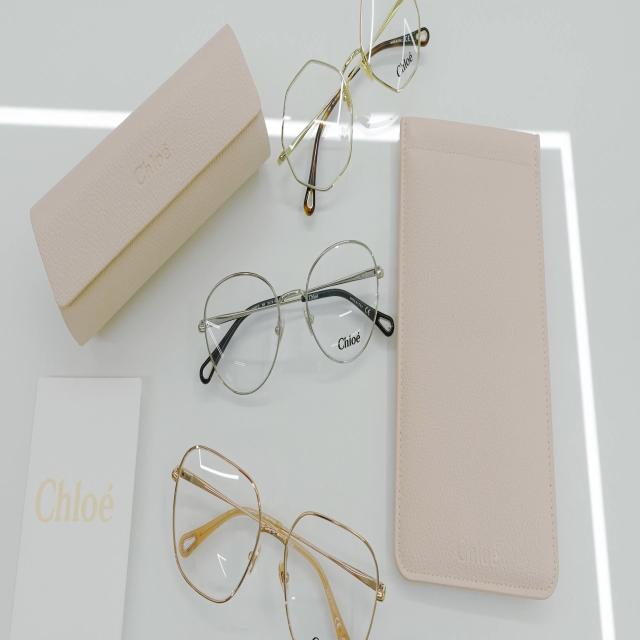glasses: (172, 441, 380, 640), (203, 235, 380, 398), (281, 0, 421, 194)
